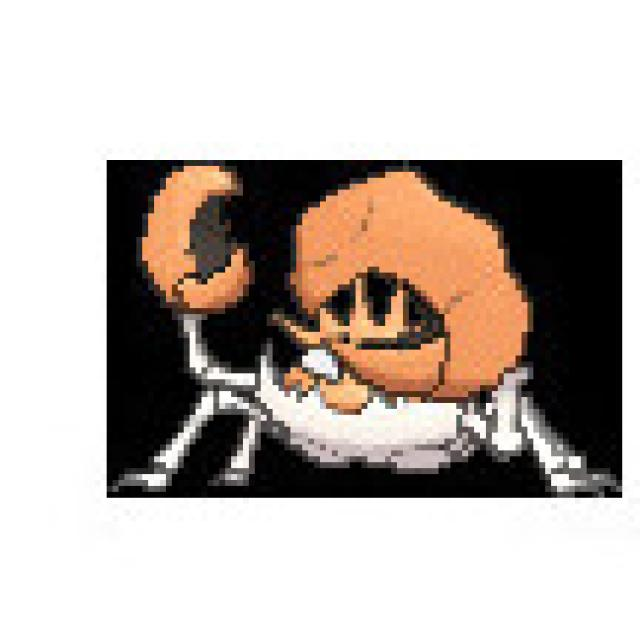Kingler: (106, 161, 623, 504)
